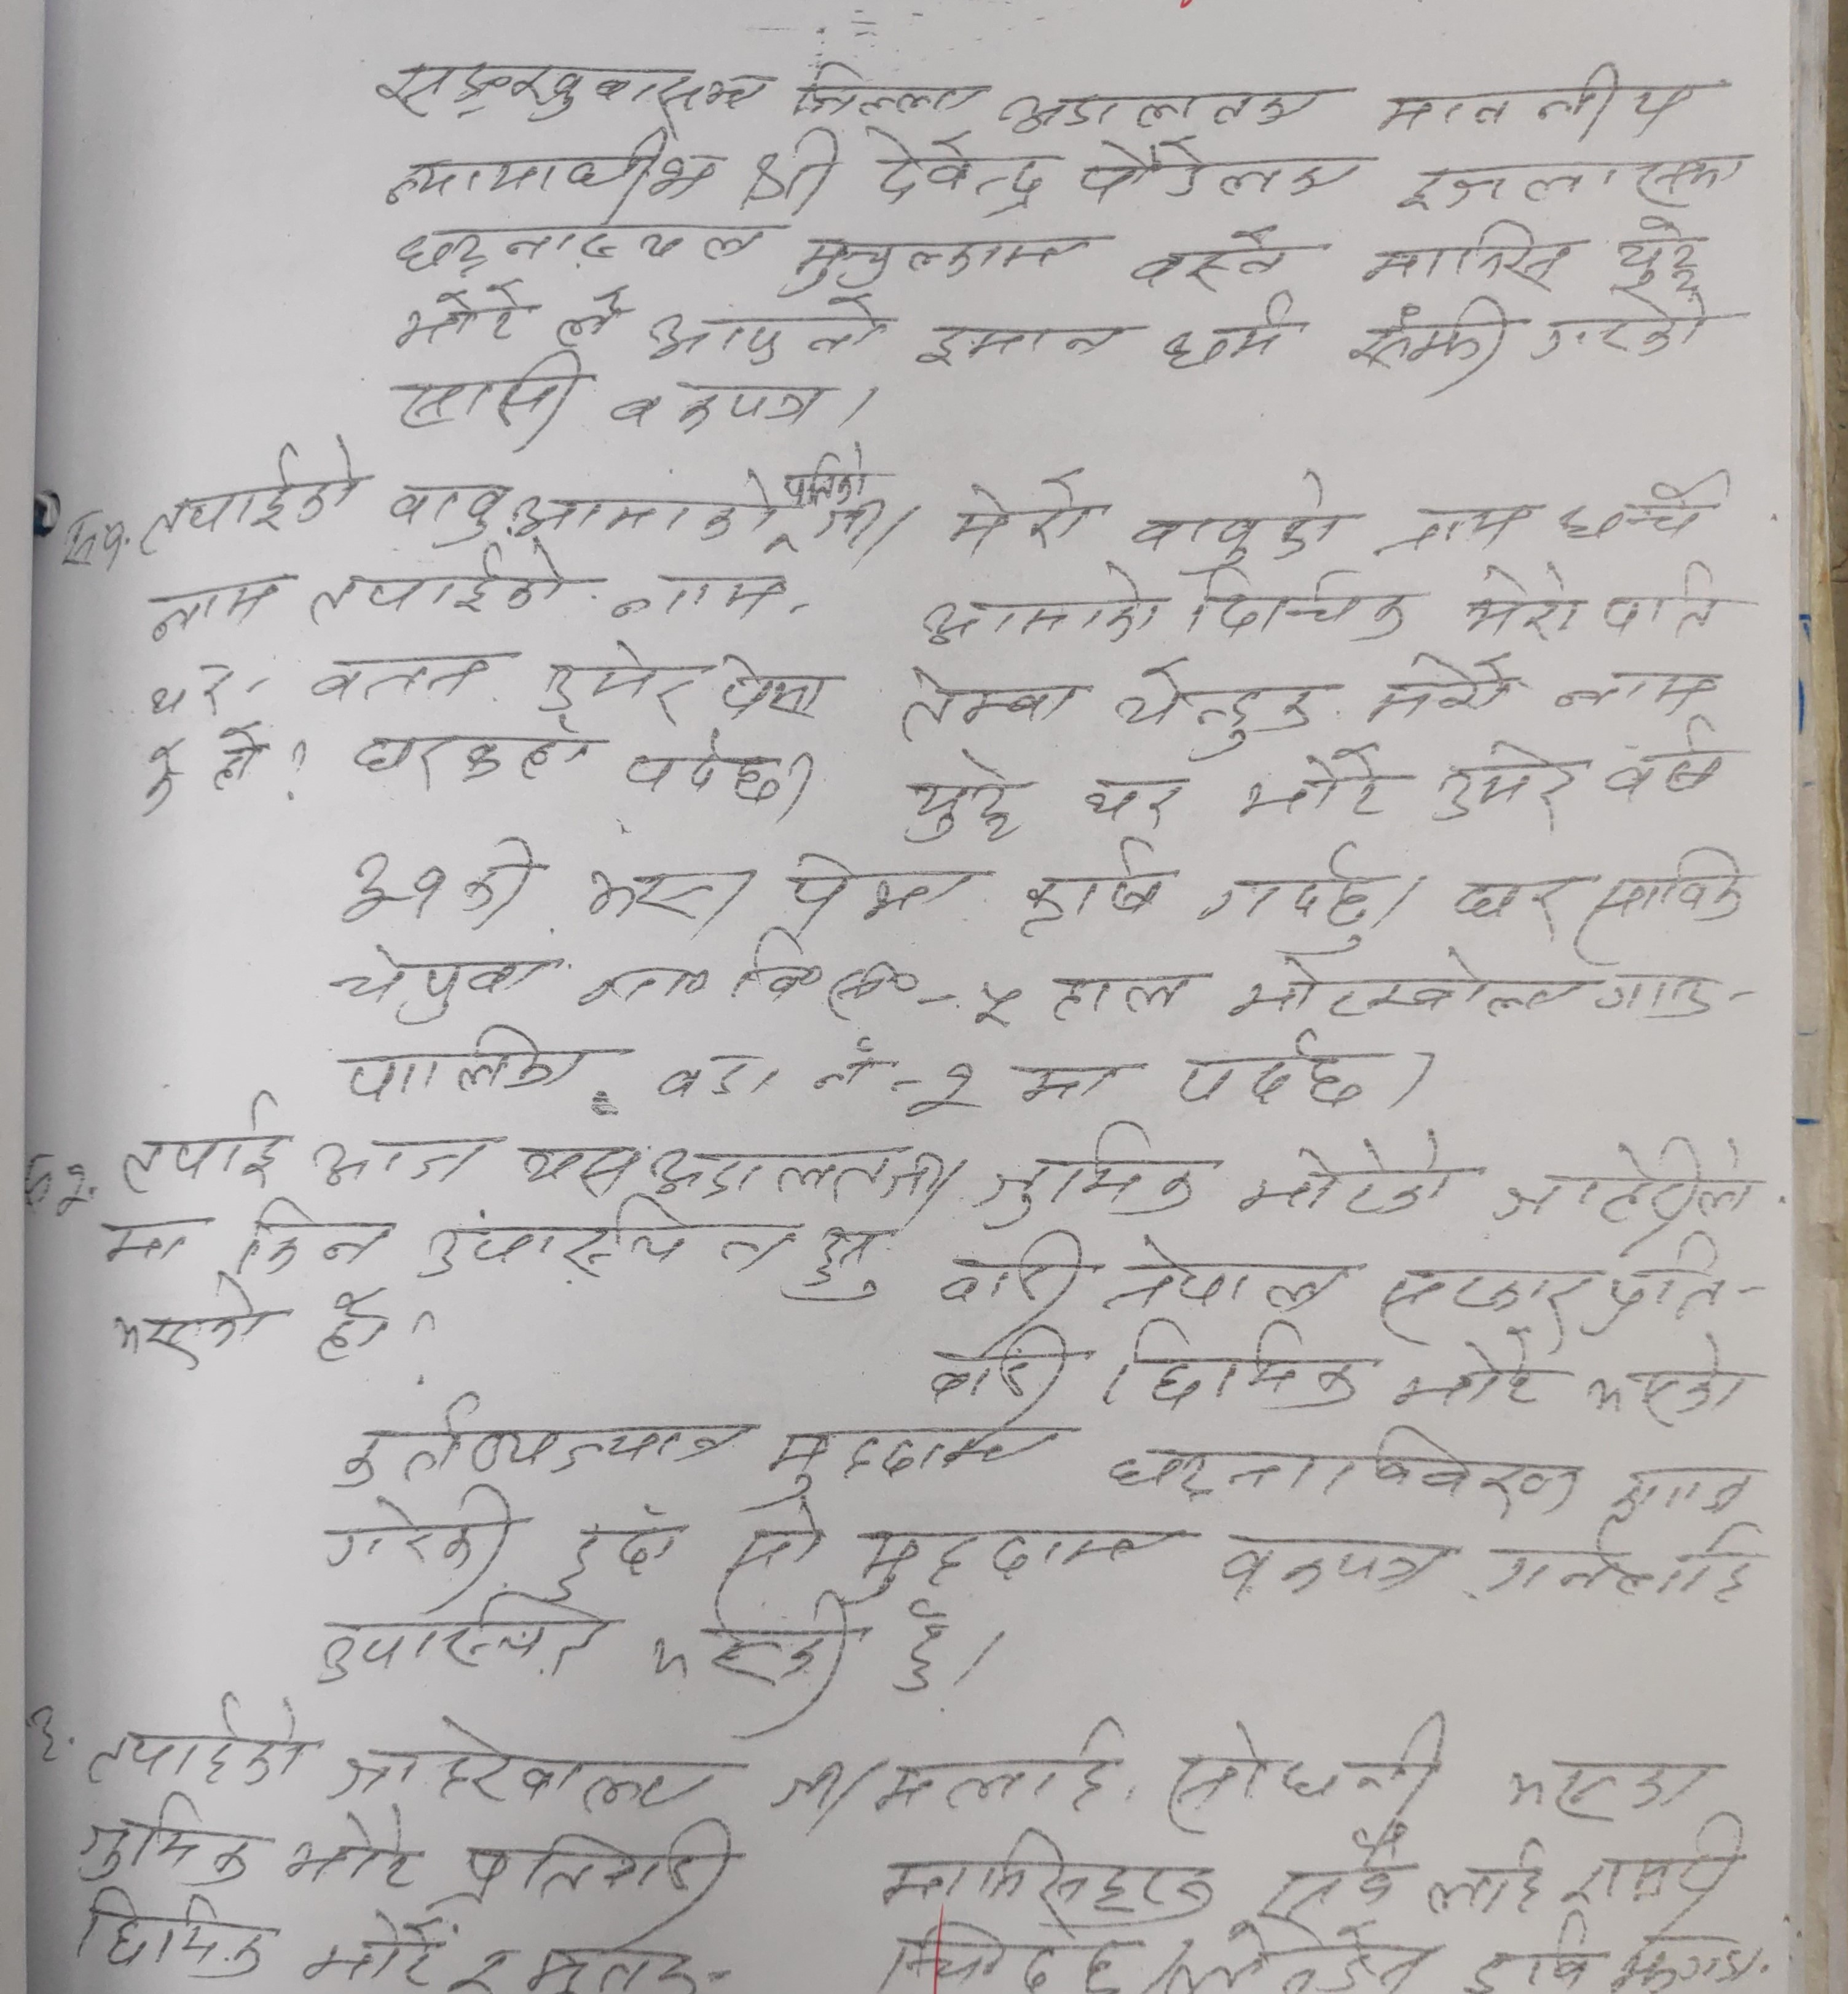text: (325, 1390, 747, 1489), (413, 1192, 792, 1297), (316, 1714, 721, 1812), (1164, 1709, 1450, 1836), (875, 1826, 1218, 1928), (431, 1819, 738, 1923), (380, 127, 723, 214), (849, 1518, 1200, 1601), (365, 57, 773, 129), (318, 1595, 613, 1692), (964, 1115, 1219, 1226), (134, 436, 368, 556), (1482, 1515, 1766, 1608), (1223, 950, 1587, 1023), (749, 1419, 1068, 1501), (1105, 1315, 1367, 1414), (1487, 1132, 1763, 1226), (1376, 63, 1719, 137), (648, 1608, 855, 1730), (875, 1714, 1120, 1815), (386, 217, 769, 281), (1231, 1127, 1475, 1228), (1395, 146, 1754, 214), (646, 1136, 966, 1211), (1179, 1909, 1457, 1994), (1193, 832, 1377, 959), (1115, 657, 1332, 761), (775, 228, 1103, 295), (83, 1692, 307, 1791), (507, 469, 783, 549), (337, 829, 547, 933), (1124, 469, 1348, 566), (61, 1883, 283, 1980), (1372, 1419, 1584, 1520), (1098, 1230, 1356, 1311), (1218, 1518, 1449, 1608), (915, 568, 1169, 650), (320, 1487, 518, 1591), (346, 710, 597, 792), (1372, 1256, 1594, 1348), (328, 936, 558, 1025), (306, 547, 573, 622), (1006, 80, 1341, 139), (646, 292, 893, 372), (1553, 1813, 1751, 1911), (340, 1025, 580, 1105), (115, 1087, 292, 1195), (1066, 139, 1362, 203), (877, 1923, 1143, 1994), (782, 844, 985, 936), (1105, 1435, 1360, 1506), (860, 122, 1049, 215), (1188, 566, 1414, 644), (68, 1794, 255, 1888), (1355, 212, 1579, 290), (389, 353, 592, 438), (1174, 1023, 1374, 1108), (1252, 1826, 1416, 1928), (1502, 1747, 1713, 1826), (1586, 1334, 1751, 1433), (893, 660, 1082, 745), (721, 936, 912, 1018), (109, 1275, 278, 1367), (533, 634, 705, 723), (1013, 841, 1171, 936), (1587, 842, 1761, 929), (1348, 297, 1518, 386), (1431, 733, 1586, 830), (1554, 472, 1740, 552), (594, 368, 822, 432), (1601, 1226, 1732, 1336), (912, 311, 1131, 375), (552, 1499, 690, 1601), (300, 1127, 502, 1195), (231, 1193, 398, 1275), (622, 731, 782, 816), (1530, 290, 1706, 366), (922, 1325, 1080, 1409), (280, 1808, 427, 1897), (295, 1904, 439, 1994), (714, 1494, 827, 1607), (604, 565, 797, 631), (901, 747, 1030, 844), (1362, 651, 1525, 728), (936, 1228, 1089, 1310), (1124, 219, 1292, 292), (304, 650, 507, 709), (585, 858, 749, 931), (792, 59, 987, 120), (1235, 754, 1407, 822), (1471, 1904, 1600, 1994), (947, 478, 1098, 554), (523, 1937, 719, 1994), (1598, 719, 1735, 797), (1596, 556, 1725, 639), (1384, 1348, 1542, 1416), (1160, 300, 1294, 380), (1553, 658, 1737, 716), (1457, 559, 1584, 641), (1421, 1836, 1542, 1921), (1596, 1459, 1761, 1522), (1607, 1931, 1770, 1994), (391, 281, 530, 354), (139, 571, 283, 641), (393, 464, 505, 552), (1376, 502, 1541, 561), (710, 648, 837, 721), (740, 130, 846, 217), (1450, 867, 1575, 940), (801, 1218, 900, 1306), (648, 1042, 787, 1105), (1049, 966, 1191, 1027), (1594, 961, 1714, 1027), (512, 1138, 644, 1197), (1608, 212, 1706, 290), (905, 1051, 987, 1132), (313, 1287, 396, 1367), (1006, 1056, 1131, 1108), (889, 1601, 954, 1702), (782, 445, 877, 509), (1086, 769, 1186, 830), (85, 1218, 212, 1264), (801, 1035, 882, 1103), (549, 283, 632, 349), (573, 964, 686, 1011), (149, 658, 236, 719), (203, 728, 269, 796), (134, 740, 186, 816), (439, 1942, 516, 1994), (971, 974, 1023, 1042)
